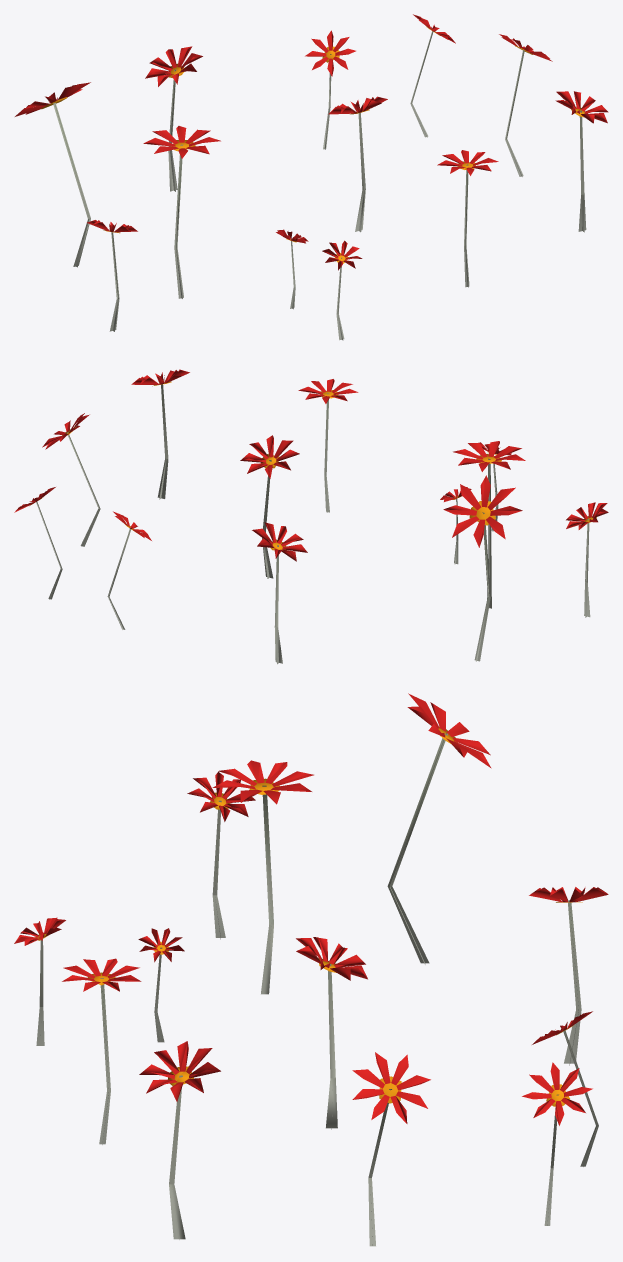
The model's file is flower_red_low.glb.
3 renders of one model, top to bottom at view 1: azimuth 30°, elevation 25°; view 2: azimuth 150°, elevation 25°; view 3: azimuth 270°, elevation 25°, orthographic. The views are drawn at different scales.
Visible parts, largest first — view 1: Flower 4_4_C; view 2: Flower 4_4_C; view 3: Flower 4_4_C.
Part boxes in pixels (x1,y1,x2,y2): Flower 4_4_C: (15, 14, 608, 340); Flower 4_4_C: (14, 369, 608, 664); Flower 4_4_C: (14, 693, 608, 1246).
Size of the model in its own units: 0.6073 by 0.2104 by 0.4454.
1 material, 1 textured.
